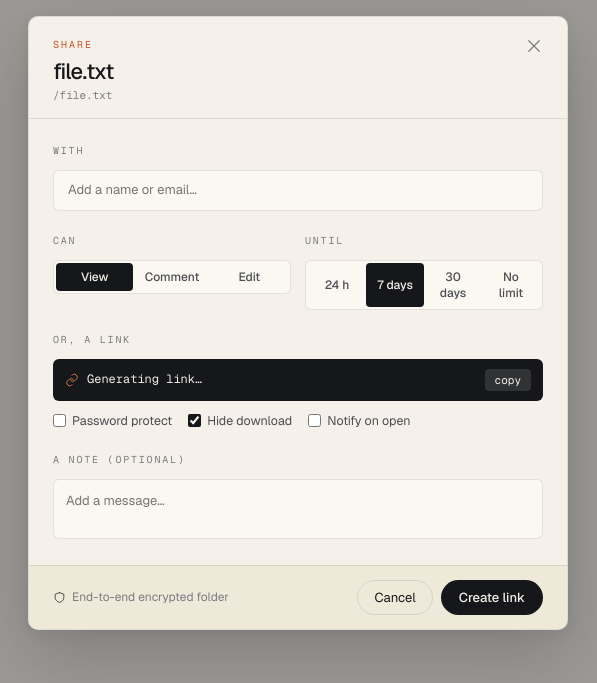
Test: ShareDialog › adds a recipient chip when Enter is pressed in the input
Type "alice@example.com" into the field with placeholder "Add a name or email…" at {"x": 298, "y": 190}, box [62,177,534,202]
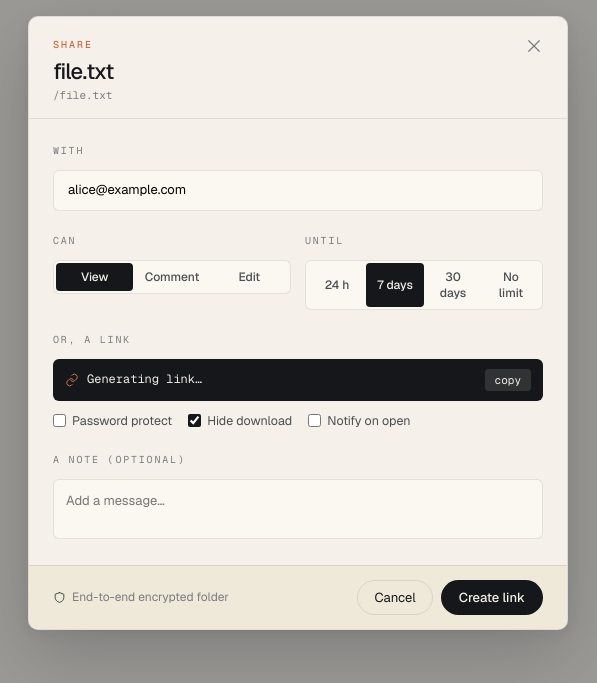
Press Enter in the field with placeholder "Add a name or email…", box [62,177,534,202]
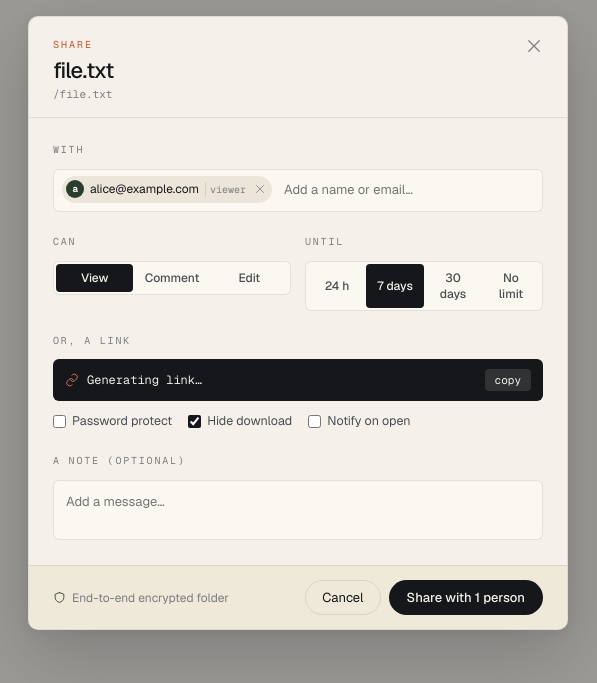
Expected: the text "alice@example.com" is shown, [90,181,199,197]
